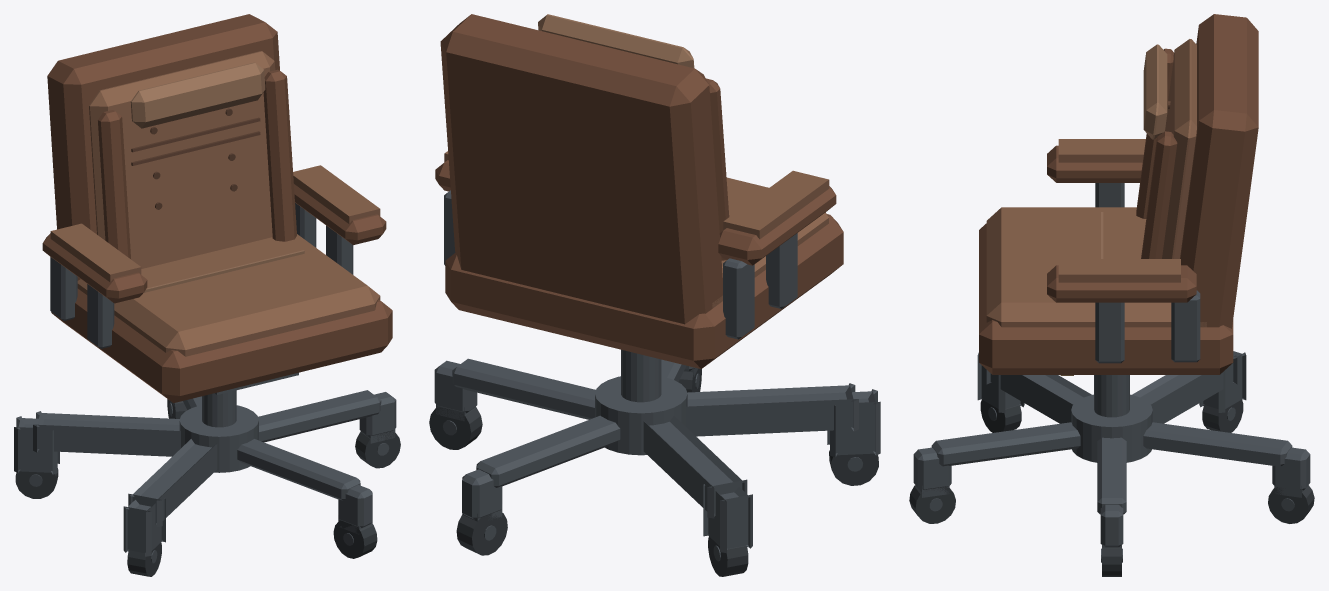
Rendered from 0-20261016-1900-ev051-r09-cfo-boardchair.fbx.
The picture shows the model from 3 angles, left to right: view 1: azimuth 30°, elevation 25°; view 2: azimuth 150°, elevation 25°; view 3: azimuth 270°, elevation 25°; orthographic projection. The views are drawn at different scales.
Visible parts, largest first — view 1: SW_Exec_BoardChair; view 2: SW_Exec_BoardChair; view 3: SW_Exec_BoardChair.
Boxes of the visible parts, box(x1,y1,x2,y2) form: SW_Exec_BoardChair: box(14, 14, 400, 576); SW_Exec_BoardChair: box(429, 14, 880, 576); SW_Exec_BoardChair: box(909, 14, 1314, 576).
Size of the model in its own units: 99.63 by 123 by 104.
